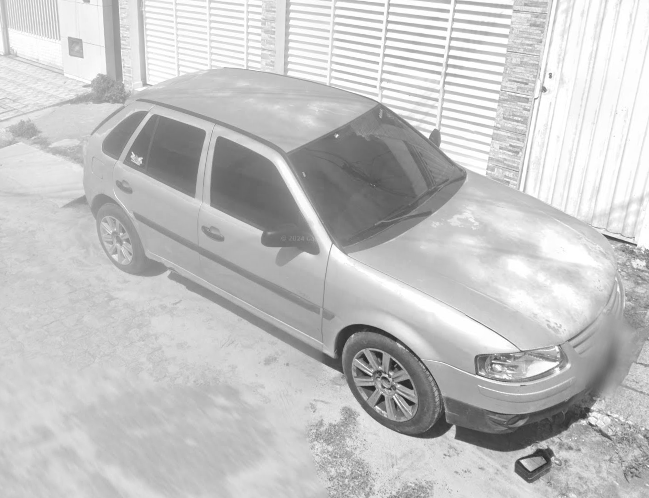car: (77, 60, 629, 448)
